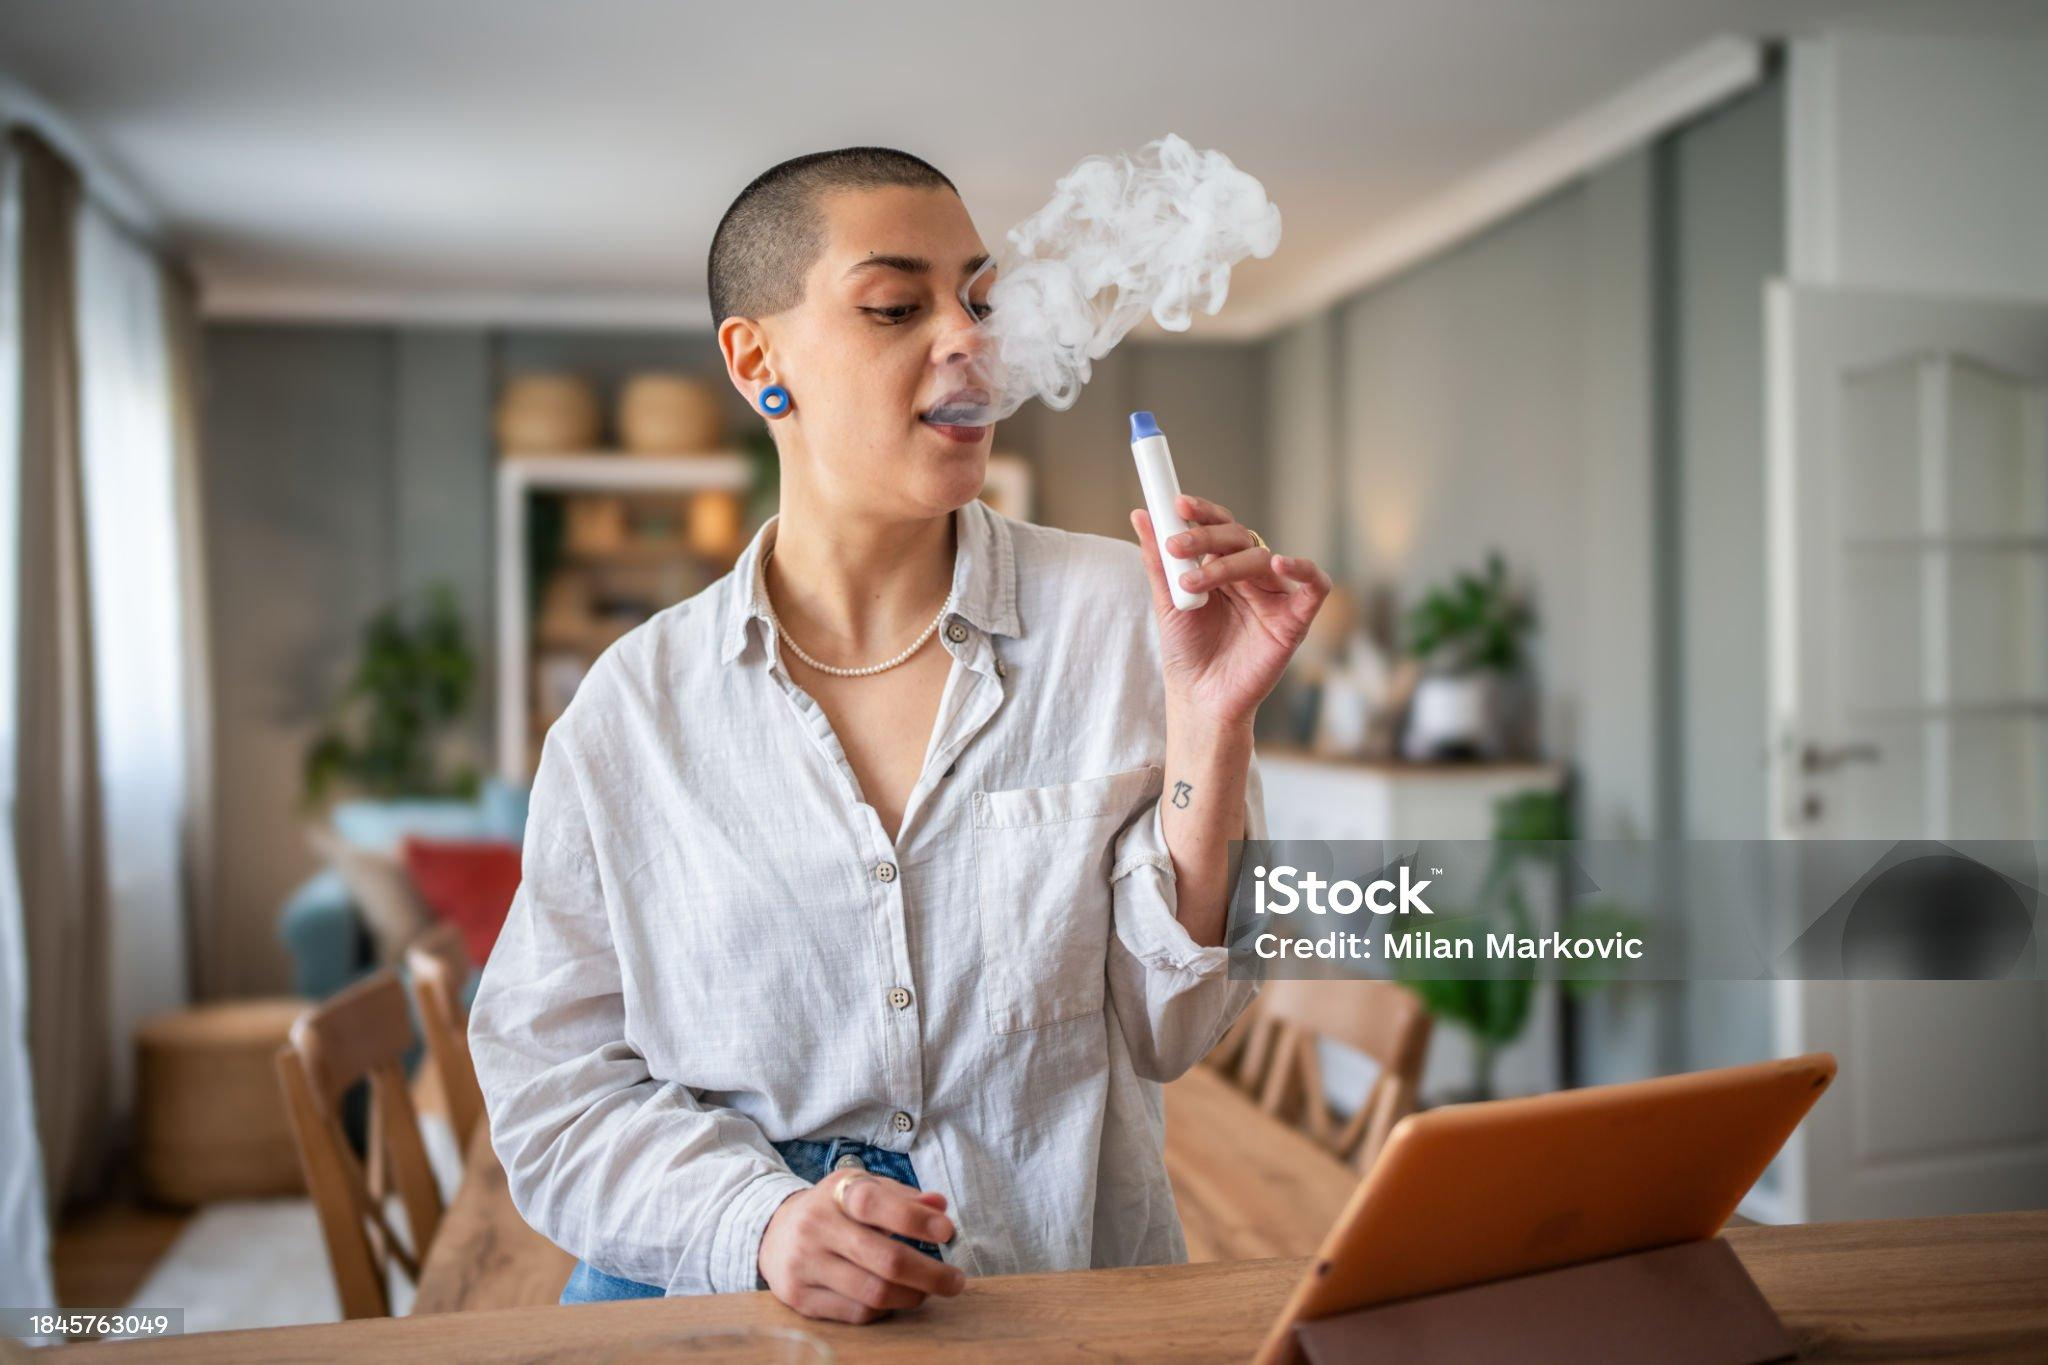Vape: (1128, 411, 1211, 612)
